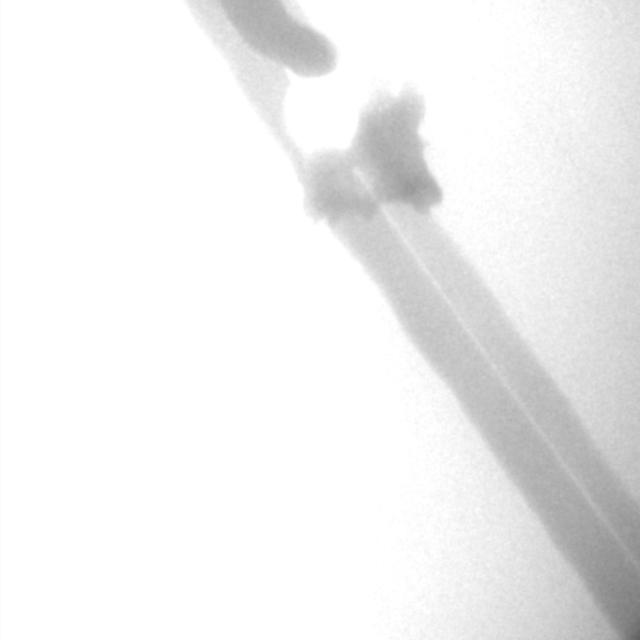broken arc: (223, 12, 635, 563)
